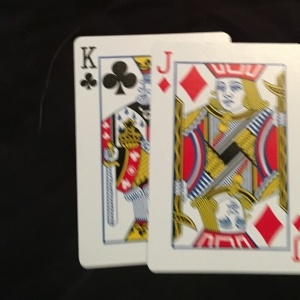card: (73, 34, 150, 266)
